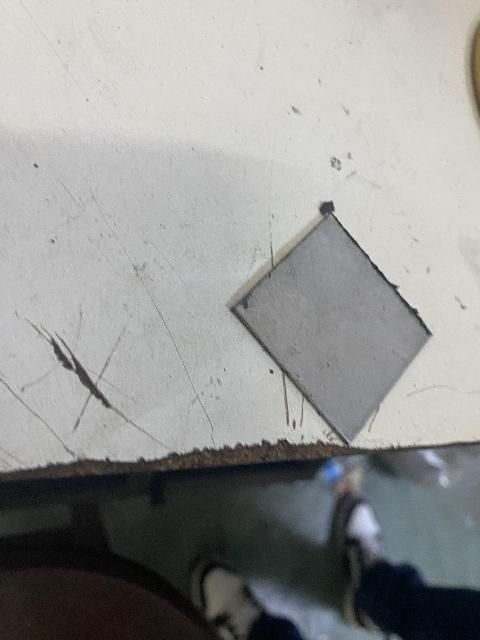Metal: (230, 212, 433, 447)
